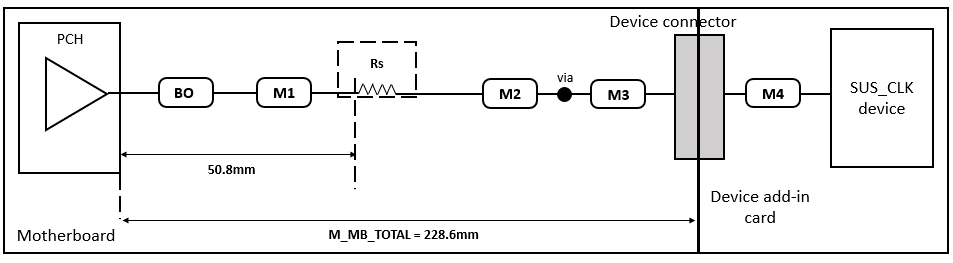circle: (555, 85, 577, 106)
dotted_rectangle: (330, 33, 423, 107)
oval: (156, 71, 219, 112), (250, 74, 313, 115), (477, 72, 540, 113), (587, 73, 650, 114), (738, 73, 801, 114)
rectangle: (12, 15, 126, 187), (825, 24, 937, 171), (667, 27, 733, 163)
resistor: (352, 75, 404, 100)
triangle: (37, 51, 108, 134)
